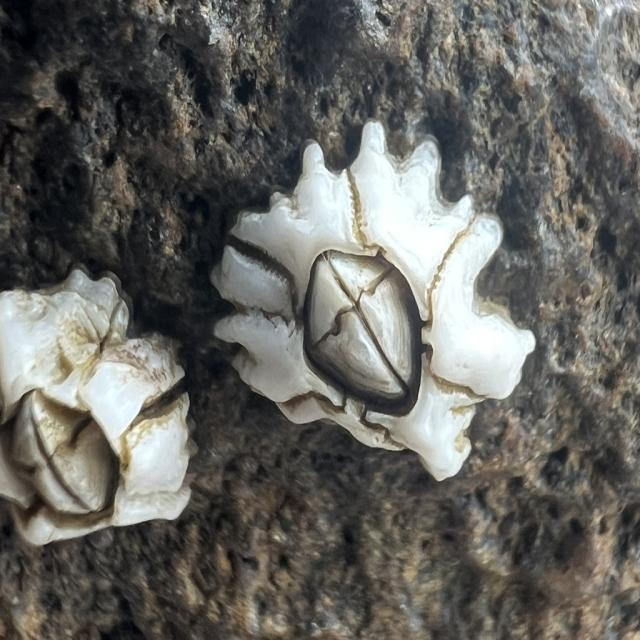barnacles: (206, 114, 535, 494), (0, 276, 195, 556)
